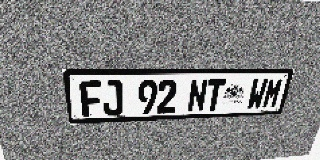2: (157, 79, 177, 114)
9: (138, 80, 158, 114)
F: (79, 80, 103, 117)
J: (101, 80, 123, 116)
M: (261, 78, 285, 109)
N: (187, 79, 208, 112)
T: (204, 79, 226, 111)
W: (246, 78, 269, 110)
